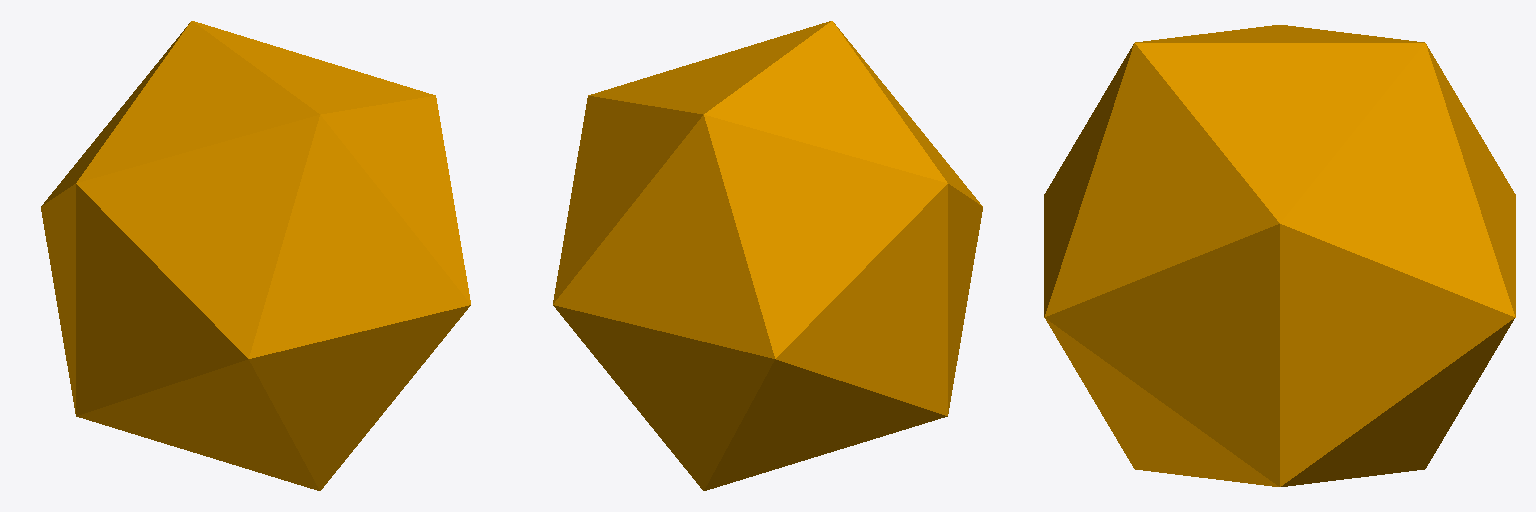
robot.urdf — object:
<?xml version="1.0"?>
<robot name="object">
  <link name="object">
    <visual>
      <origin xyz="0 0 0"/>
      <geometry>
        <mesh filename="meshes/set2/ball_3.obj" scale=".03 .03 .03"/>
      </geometry>
    </visual>
    <collision>
  <origin xyz="0 0 0"/>
  <geometry>
    <mesh filename="meshes/set2/ball_3_0decompose.obj" scale=".03 .03 .03"/>
  </geometry>
</collision>
    <inertial>
      <density value="1000.0"/>
    </inertial>
  </link>
</robot>

--- Render facts (derived) ---
Views: 3 orthographic renders of the robot side by side, from view 1: azimuth 30°, elevation 25°; view 2: azimuth 150°, elevation 25°; view 3: azimuth 270°, elevation 25°.
Robot: object — 1 links, 0 joints (none); root link object; default pose: all joints at 0.
Links seen in each view (by area): view 1: object; view 2: object; view 3: object.
Link boxes in pixels (x1,y1,x2,y2): object: (41, 21, 470, 490); object: (553, 21, 982, 490); object: (1044, 25, 1515, 486).
Bounding box of the posed robot: 0.06 × 0.06 × 0.06 m (x, y, z).
Meshes: 1 distinct files referenced, 1 mesh visuals loaded (1 OBJ).
